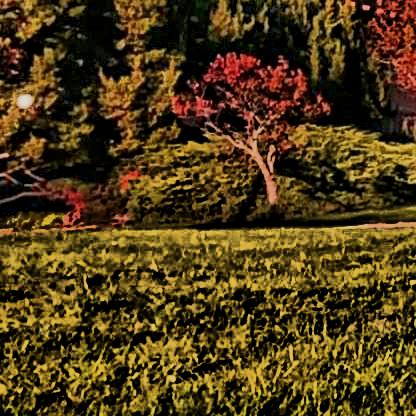golfball: (12, 91, 31, 106)
